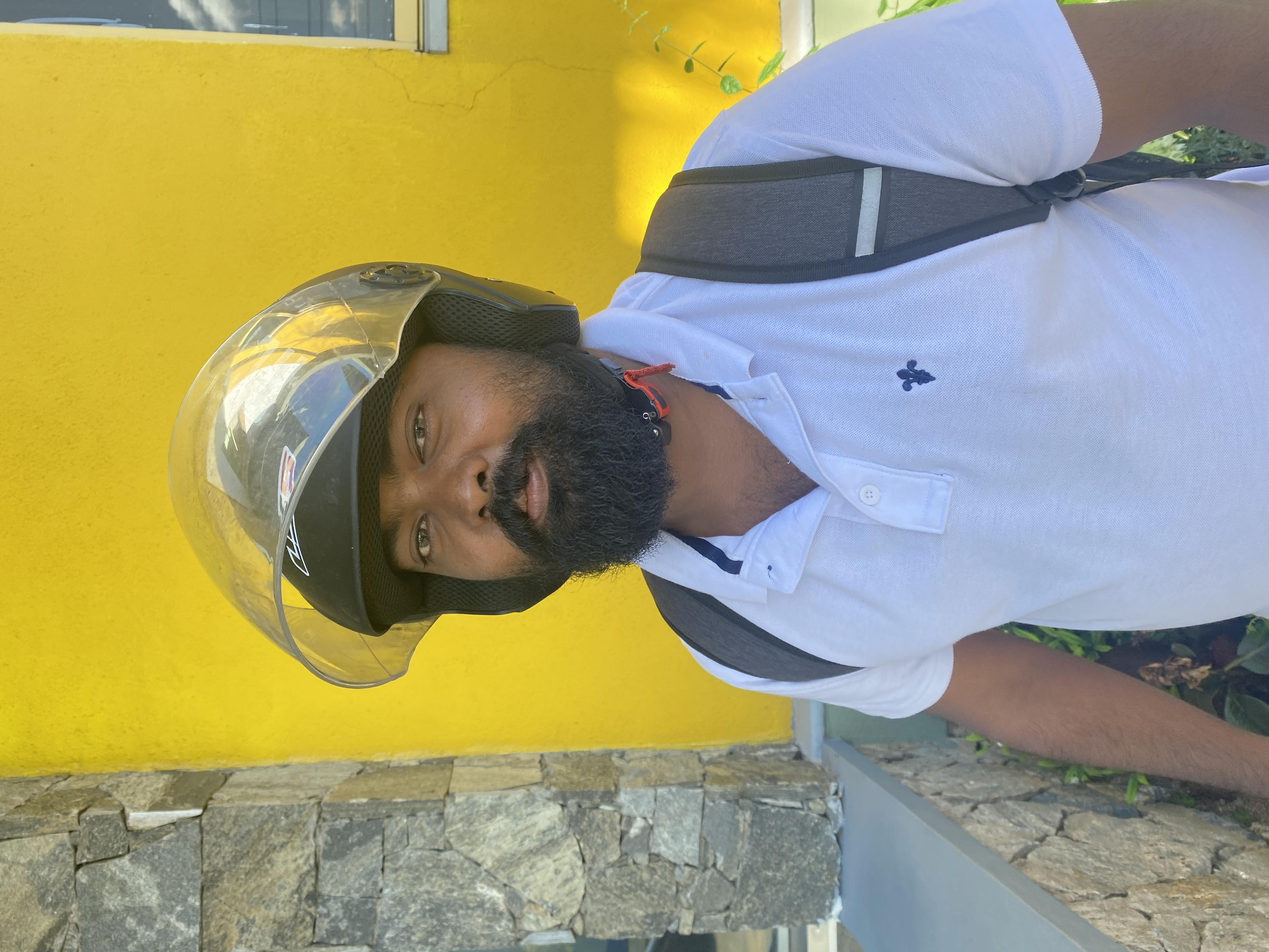helmet: (345, 126, 939, 506)
